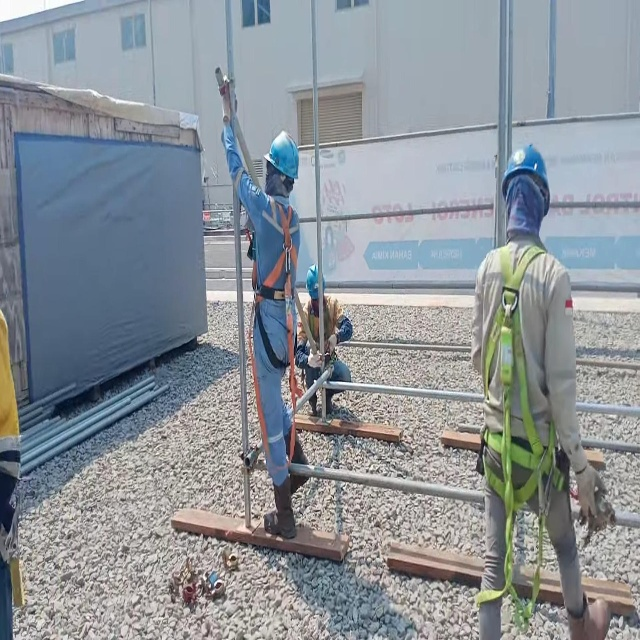Arnes_seguridad: (475, 241, 568, 628), (247, 199, 304, 478)
